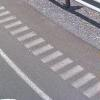Crosswalk: (3, 8, 100, 90)
